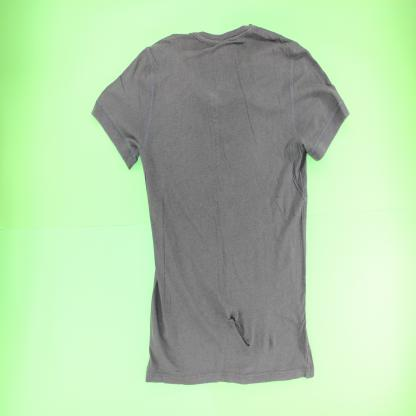hole: (227, 312, 251, 349)
